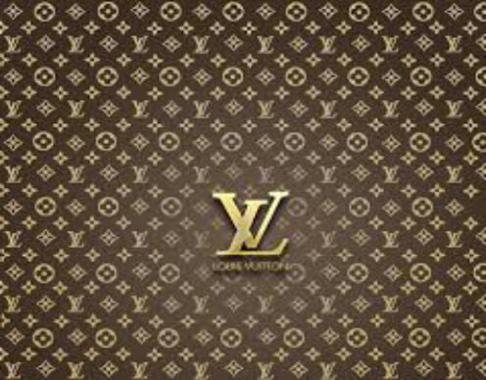LOUIS-VUITTON: (206, 182, 306, 262)
